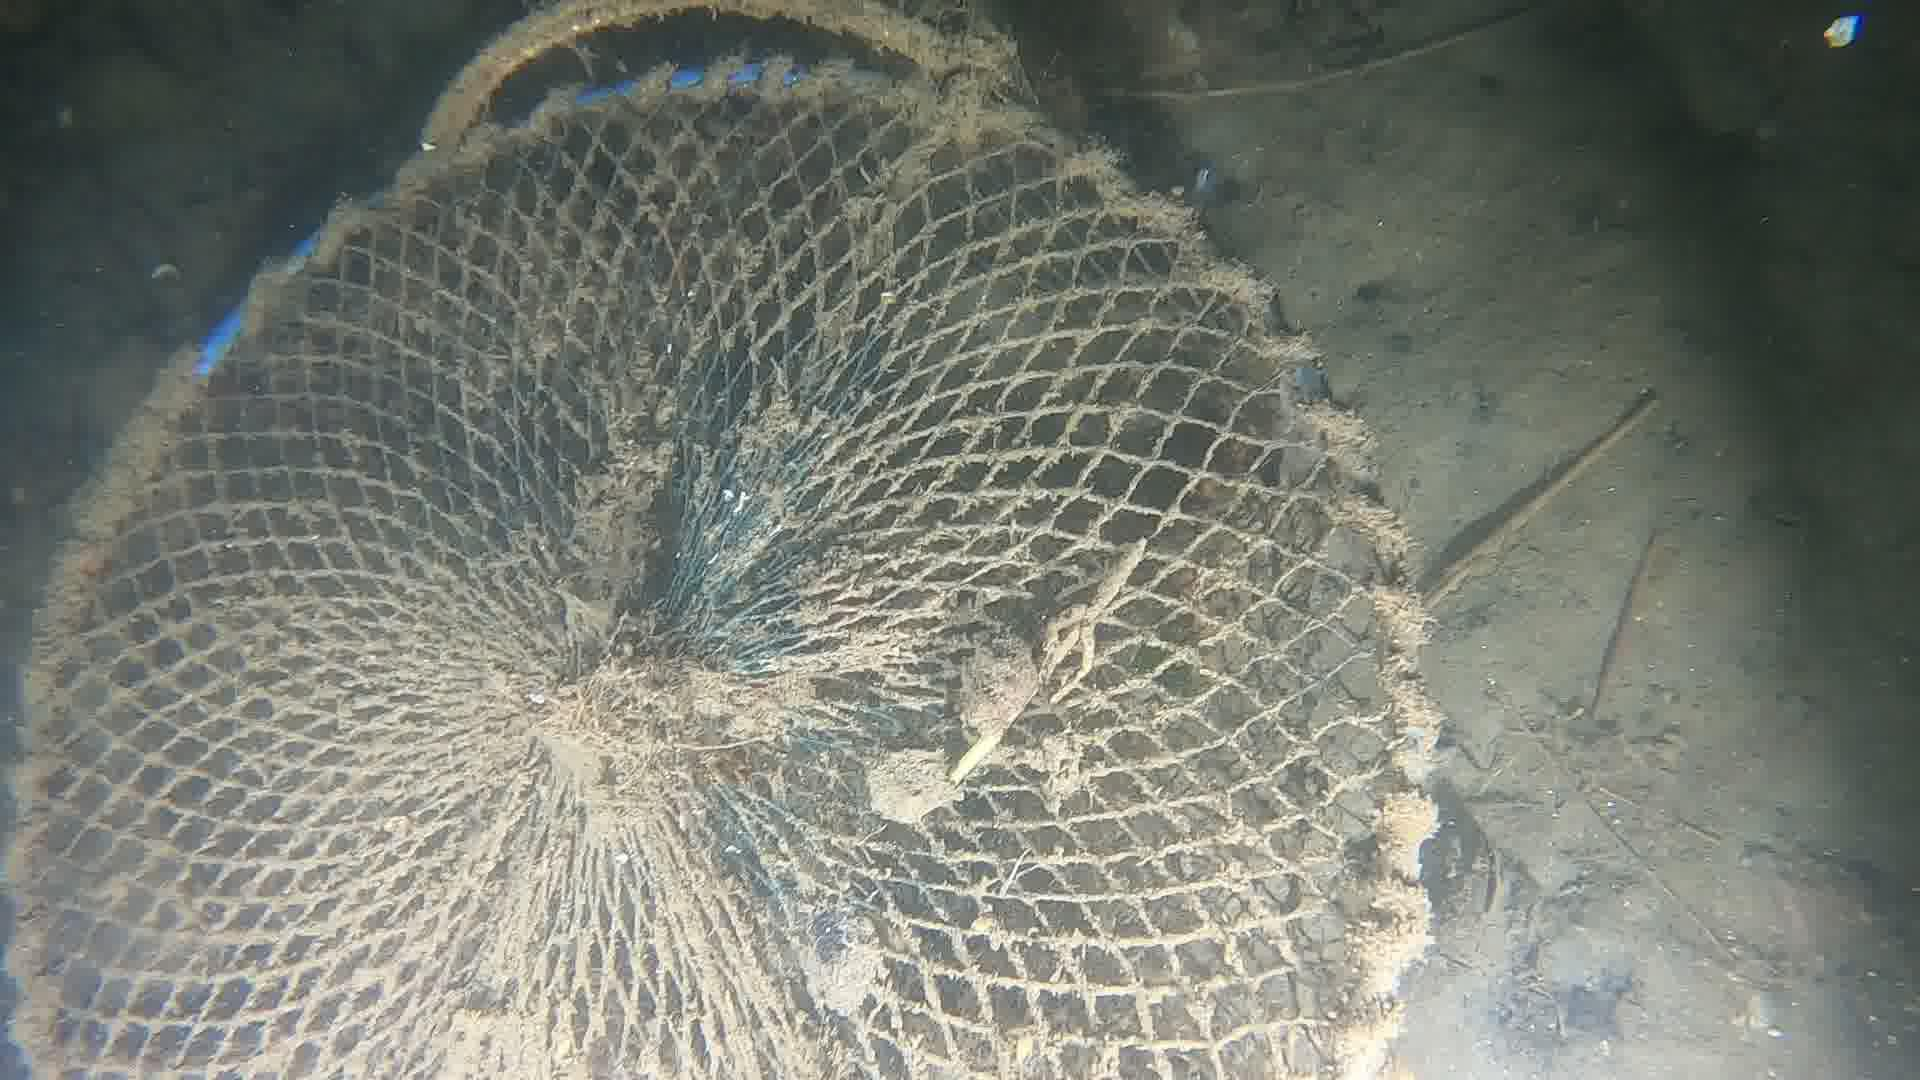circular fish trap: (0, 61, 1441, 1080)
rope: (422, 0, 961, 138)
